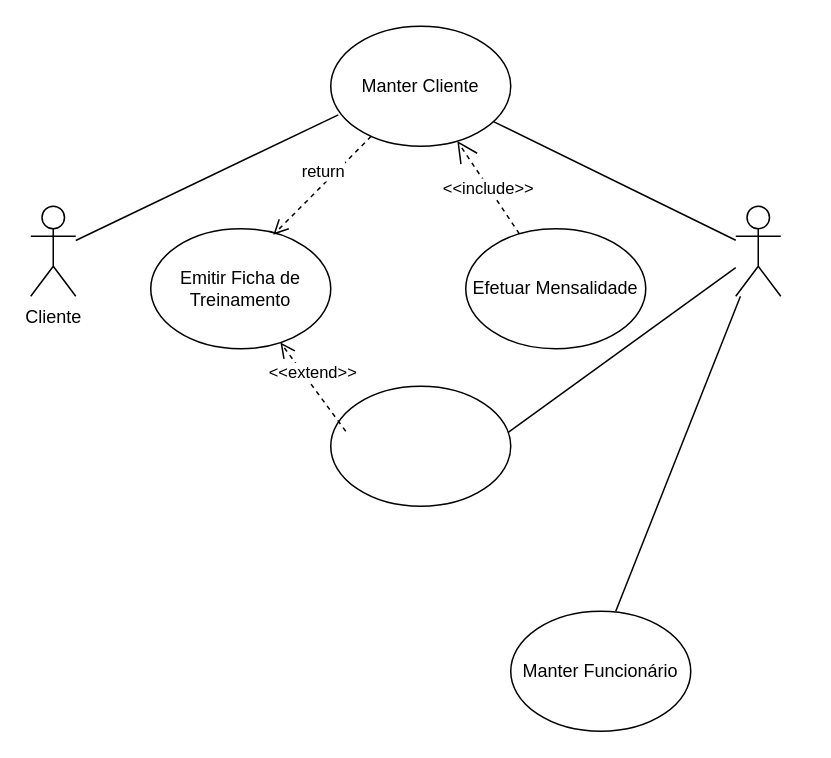
The diagram is 831 pixels wide and 758 high, and some of its shapes have lost their labels. Each missing label, with the centre of its shape:
"Funcionário" goes at point (757, 250).
"Manter Treinamento" goes at point (420, 445).
